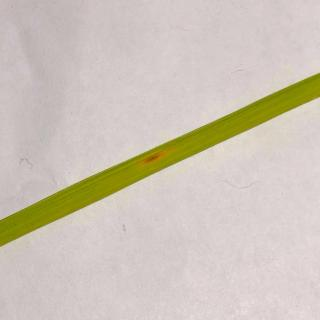bercak-Cokelat: (139, 149, 169, 164)
